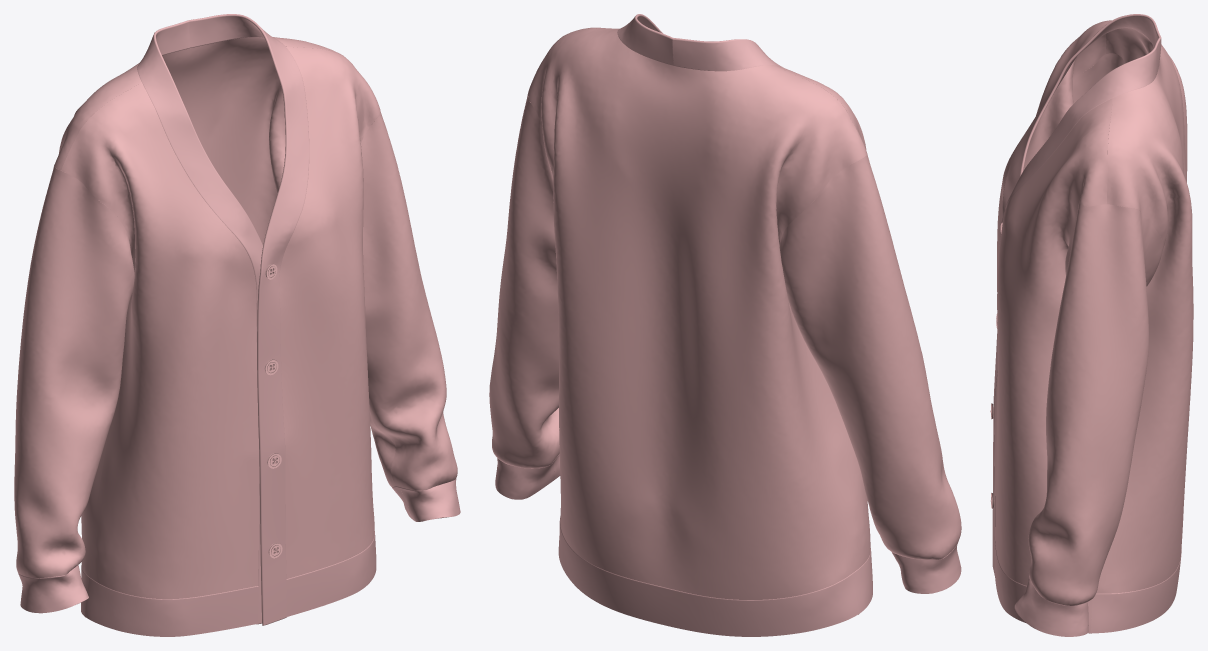
The model's file is rubashka.glb.
3 renders of one model, left to right at view 1: azimuth 30°, elevation 25°; view 2: azimuth 150°, elevation 25°; view 3: azimuth 270°, elevation 25°, orthographic. The views are drawn at different scales.
Parts seen in each view (by area): view 1: Unisex Cardigan Design; view 2: Unisex Cardigan Design; view 3: Unisex Cardigan Design.
Boxes of the visible parts, x1,y1,x2,y2 form: Unisex Cardigan Design: (14,14,460,636); Unisex Cardigan Design: (489,14,961,636); Unisex Cardigan Design: (990,14,1193,636).
Bounding box in the file's own units: 0.6327 × 0.7686 × 0.2602.
Materials: 3 (3 with a texture image).
